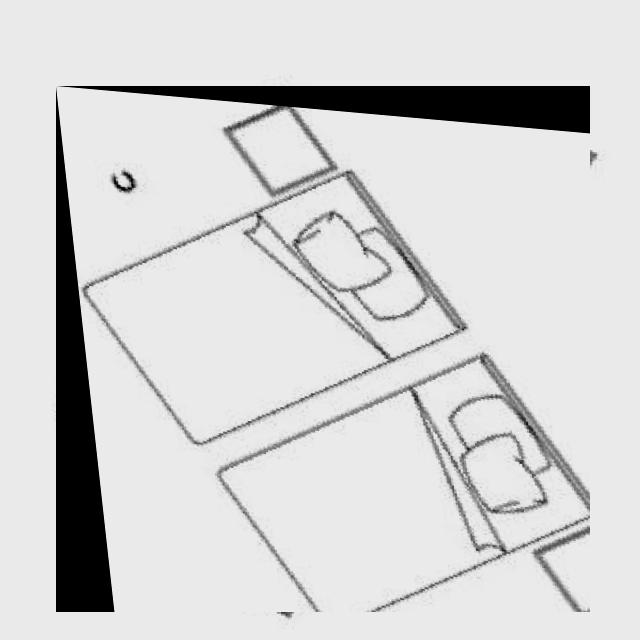bed: (56, 86, 590, 612)
